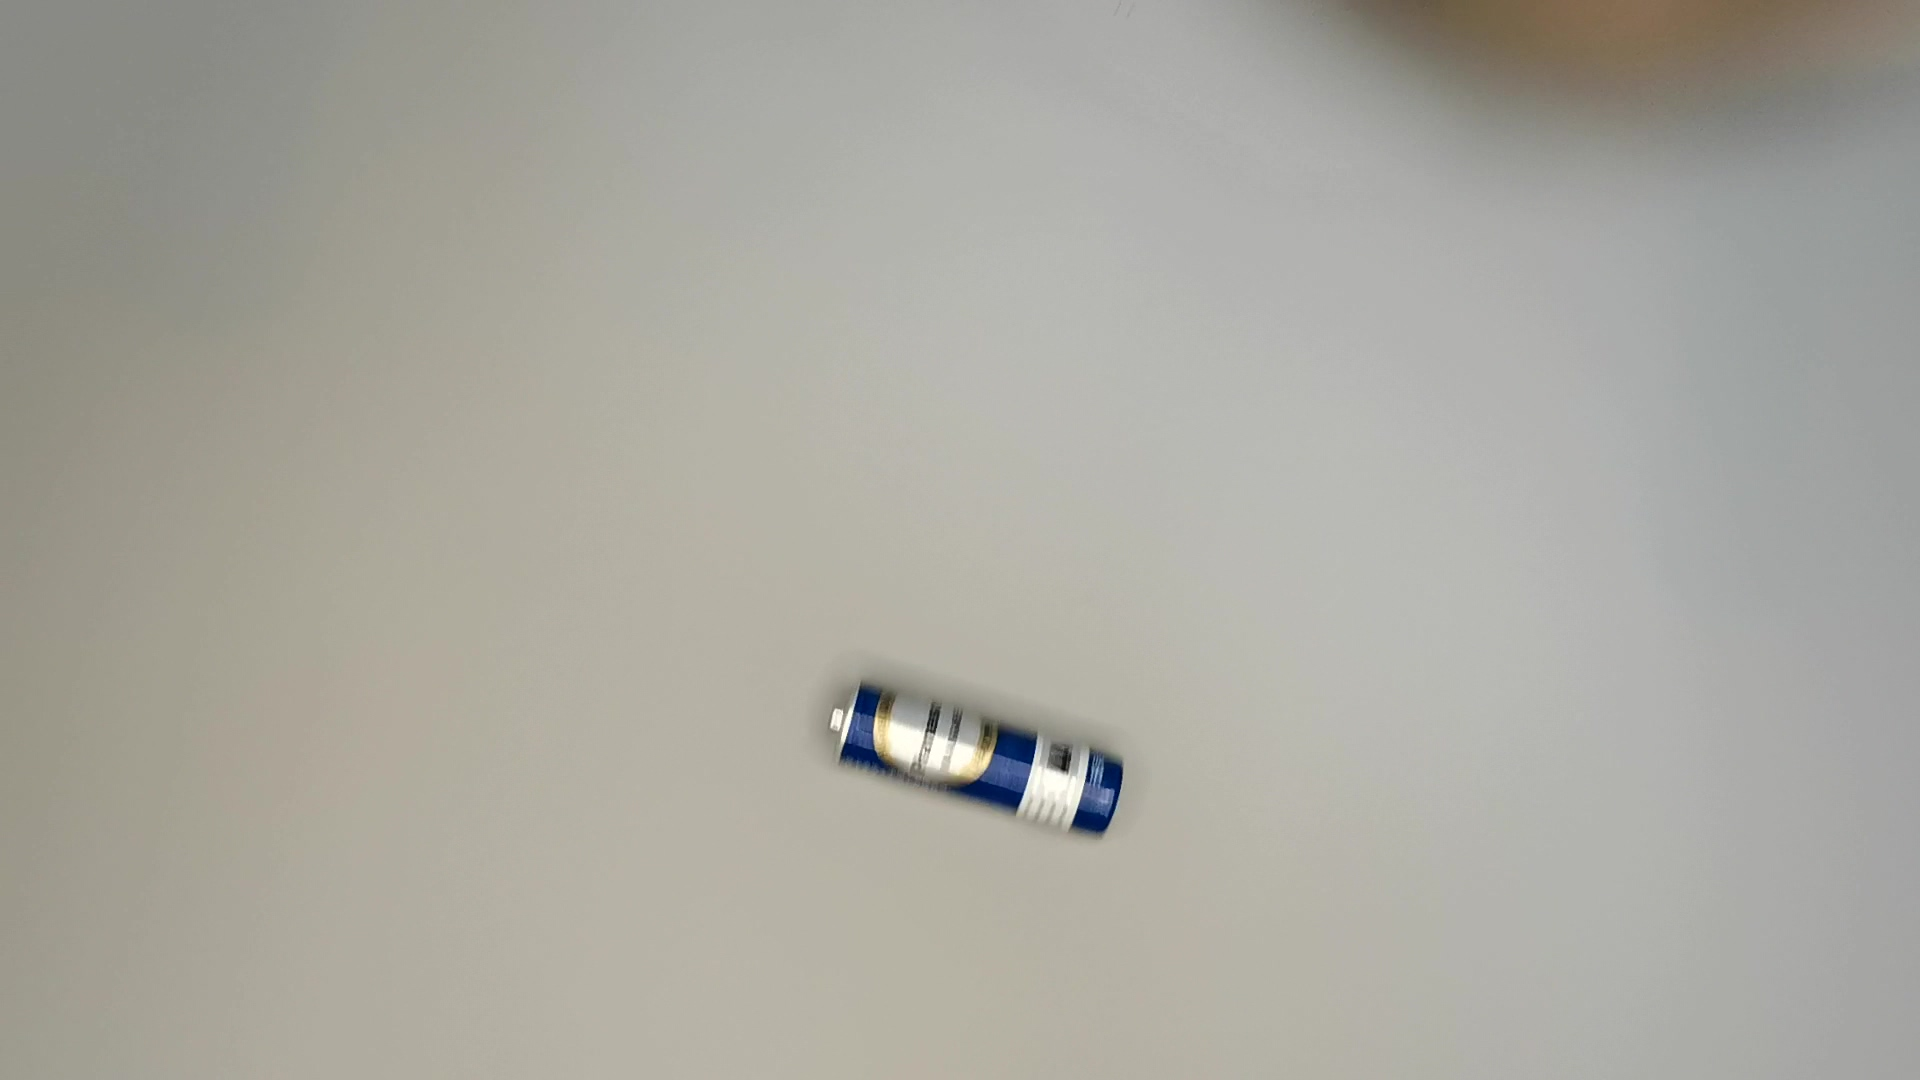battery: (825, 675, 1127, 851)
